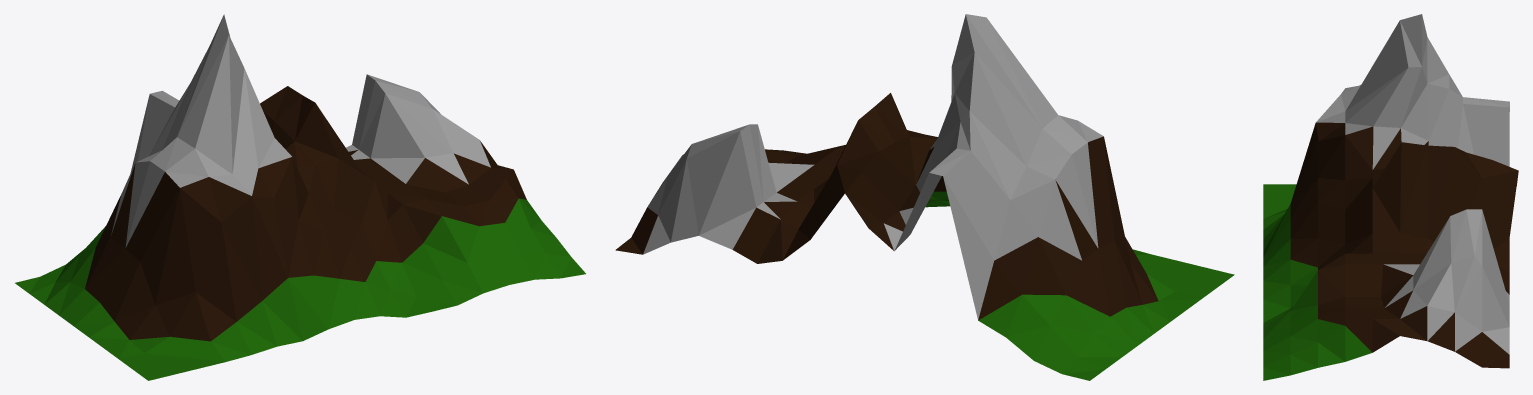
The model's file is mountain.FBX.
3 renders of one model, left to right at view 1: azimuth 30°, elevation 25°; view 2: azimuth 150°, elevation 25°; view 3: azimuth 270°, elevation 25°, orthographic. The views are drawn at different scales.
Parts seen in each view (by area): view 1: mt; view 2: mt; view 3: mt.
Part boxes in pixels (left/top/right/bottom): mt: left=15, top=14, right=585, bottom=380; mt: left=615, top=14, right=1234, bottom=380; mt: left=1263, top=14, right=1518, bottom=380.
Bounding box in the file's own units: 671 × 385 × 367.
